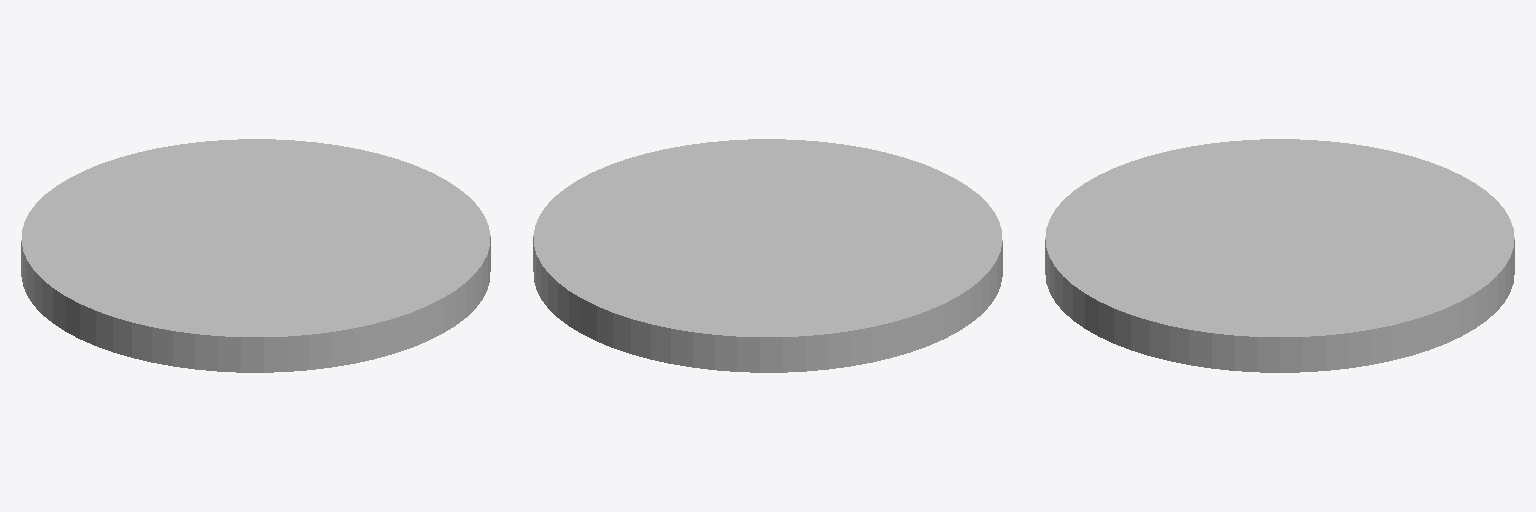
The model's file is ChipOBJ.obj.
3 renders of one model, left to right at view 1: azimuth 30°, elevation 25°; view 2: azimuth 150°, elevation 25°; view 3: azimuth 270°, elevation 25°, orthographic.
Visible parts, largest first — view 1: Cylinder; view 2: Cylinder; view 3: Cylinder.
Boxes of the visible parts, x1,y1,x2,y2 form: Cylinder: [21, 139, 490, 372]; Cylinder: [533, 139, 1002, 372]; Cylinder: [1045, 139, 1514, 372].
Size of the model in its own units: 0.03 by 0.0025 by 0.03.